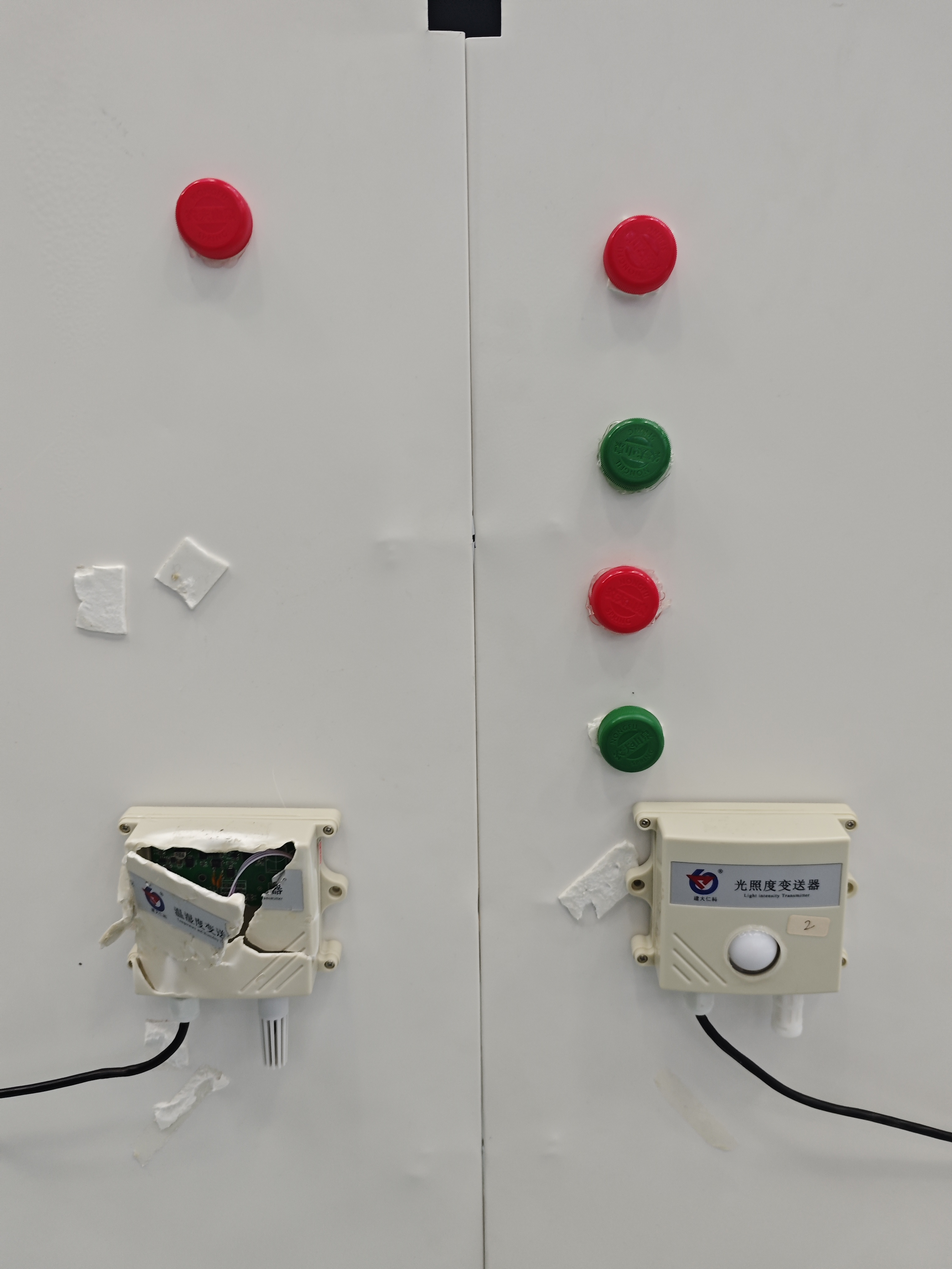red_warning: (588, 197, 743, 330), (156, 149, 293, 276), (569, 548, 693, 665)
sensor_damage: (83, 777, 362, 1087)
